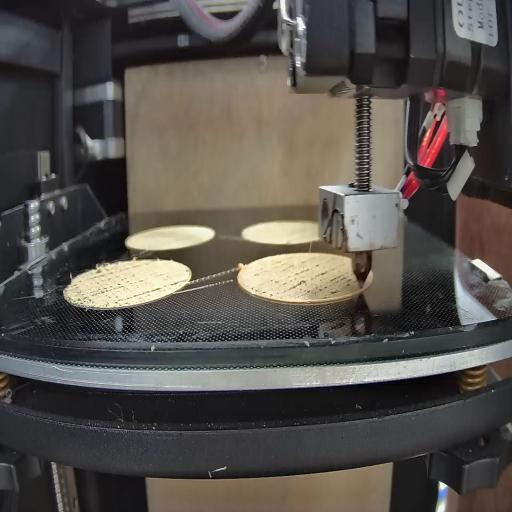under_extrusion: (66, 262, 165, 303), (250, 259, 355, 297), (170, 273, 188, 290)
